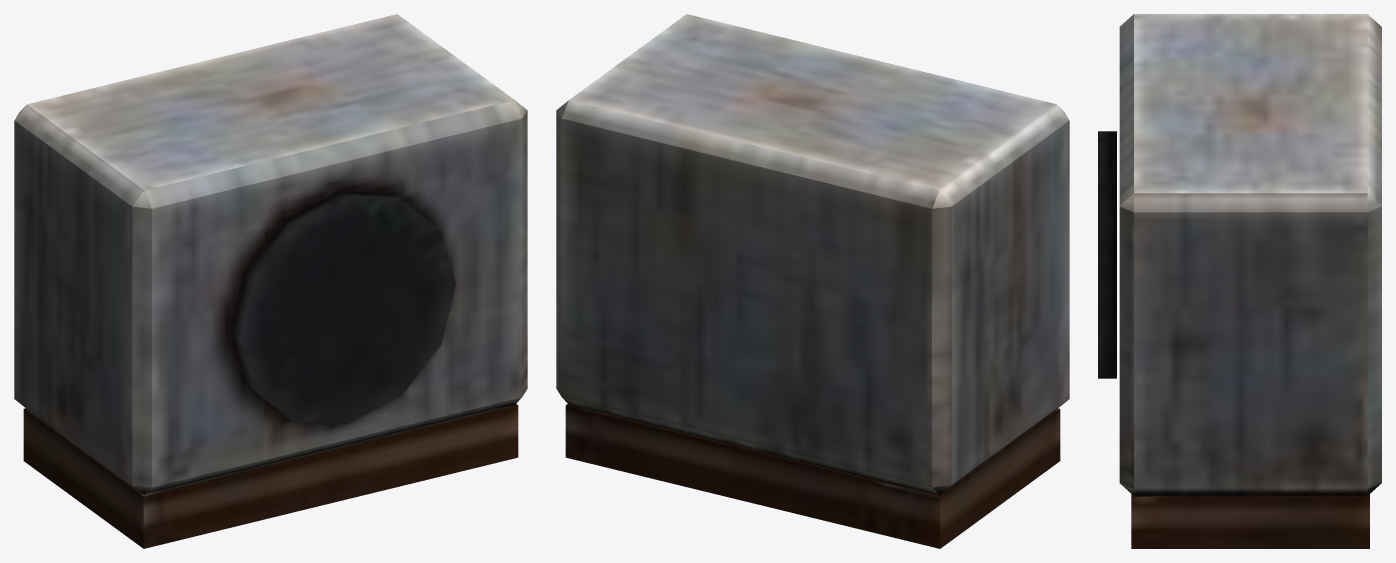
File: roof_ac.glb
3 views of the same model, side by side, from view 1: azimuth 30°, elevation 25°; view 2: azimuth 150°, elevation 25°; view 3: azimuth 270°, elevation 25° (orthographic).
Visible parts, largest first — view 1: roof_ac; view 2: roof_ac; view 3: roof_ac.
Part boxes in pixels (x1=…): roof_ac: x1=14, y1=14, x2=527, y2=548; roof_ac: x1=556, y1=14, x2=1069, y2=548; roof_ac: x1=1098, y1=14, x2=1381, y2=548.
Size of the model in its own units: 0.95 by 0.82 by 0.595.
3 materials, 3 textured.
